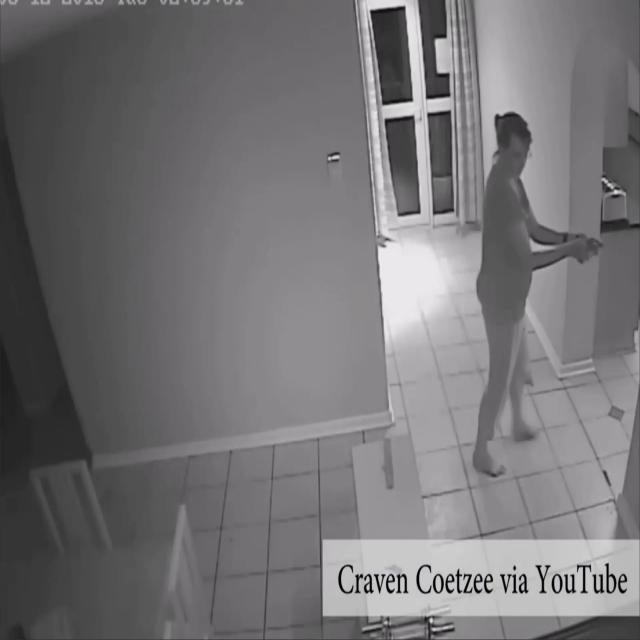gun: (572, 232, 606, 268)
